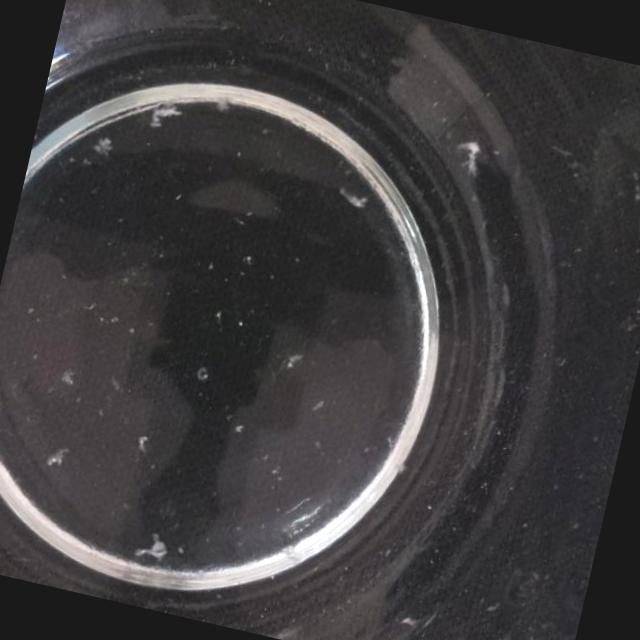fiber: (147, 98, 185, 134)
